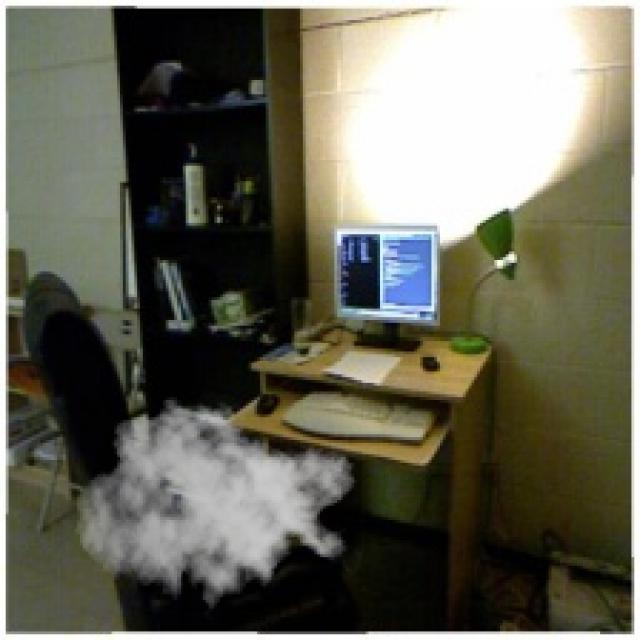smoke: (74, 391, 357, 620)
